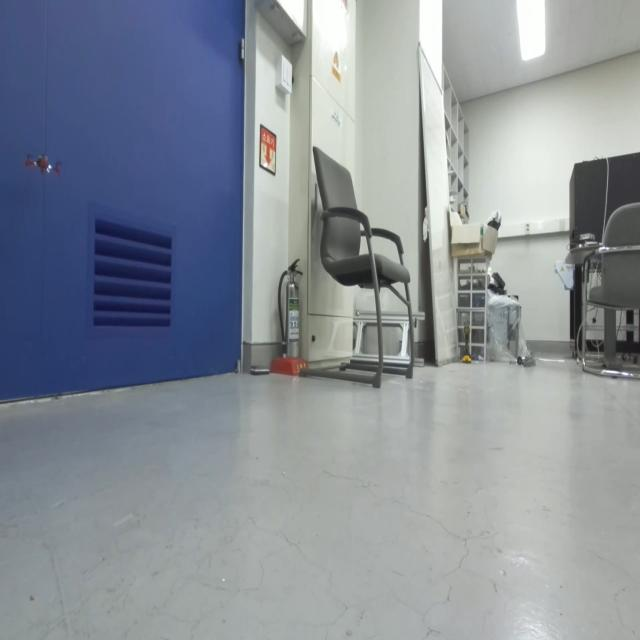crazyflie: (23, 143, 65, 184)
